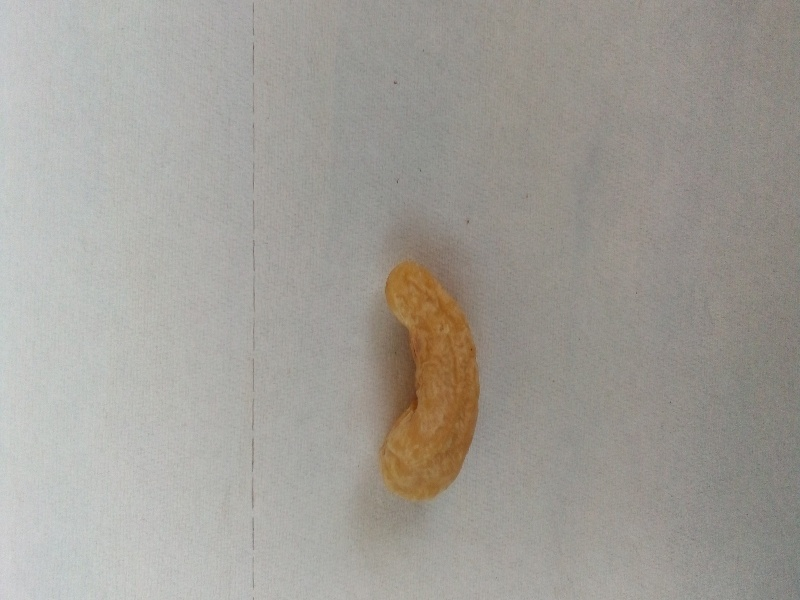cashew: (354, 247, 508, 530)
